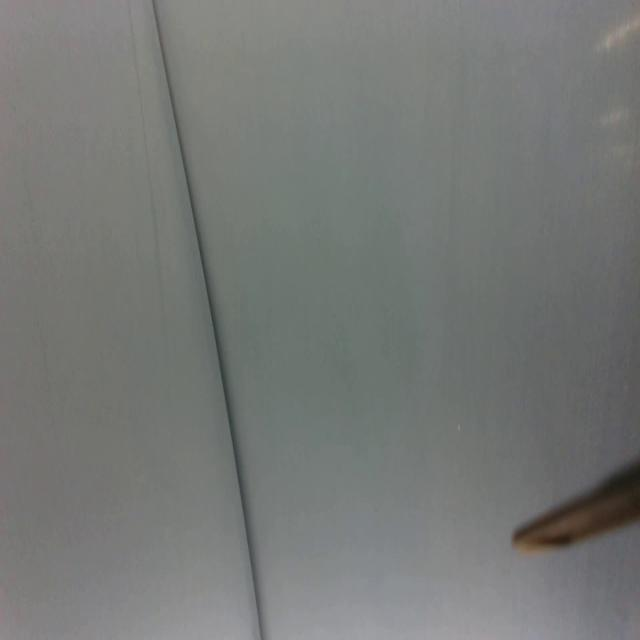crease: (153, 1, 263, 639), (127, 0, 164, 315)
